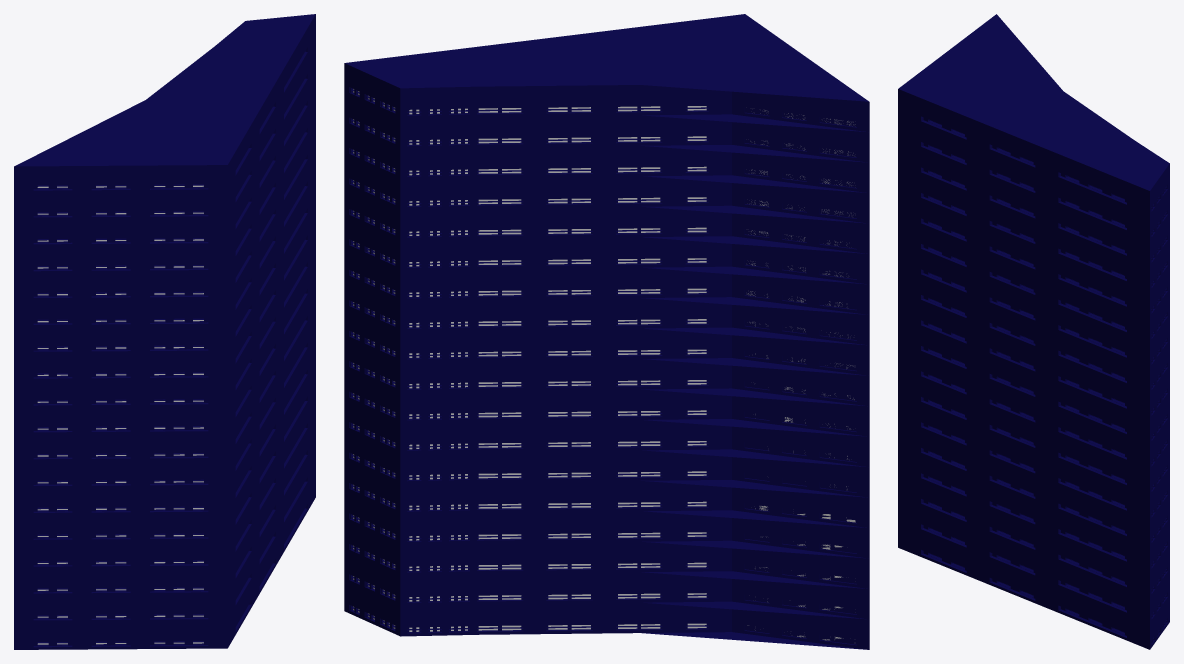
The model's file is SeventyNine.fbx.
3 views of the same model, side by side, from view 1: azimuth 30°, elevation 25°; view 2: azimuth 150°, elevation 25°; view 3: azimuth 270°, elevation 25° (orthographic). The views are drawn at different scales.
Visible parts, largest first — view 1: SeventyNine_LOD0; view 2: SeventyNine_LOD0; view 3: SeventyNine_LOD0.
Part boxes in pixels (<box>): SeventyNine_LOD0: <box>14,14,315,649</box>; SeventyNine_LOD0: <box>344,14,869,649</box>; SeventyNine_LOD0: <box>898,14,1169,649</box>.
Size of what is drawn, in the model's own units: 6574 by 7940 by 4263.
